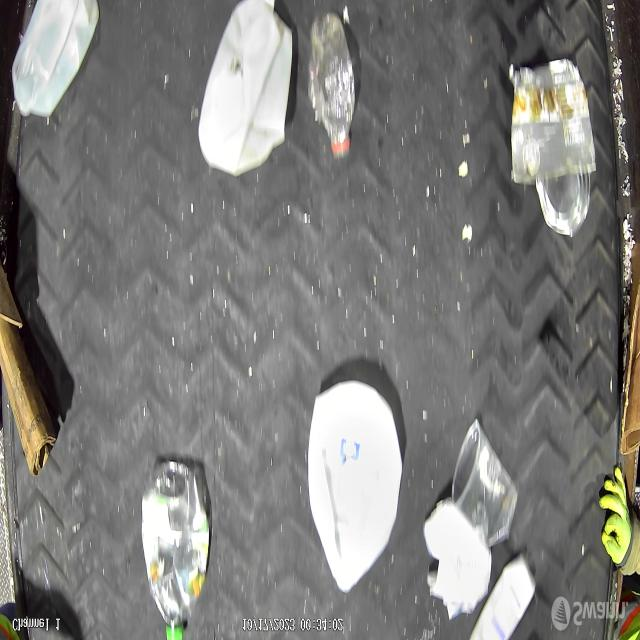can: (536, 173, 592, 236)
milk_jug: (307, 378, 403, 594), (198, 2, 294, 180), (10, 0, 100, 120)
plastic_bottle: (142, 463, 210, 640), (306, 12, 356, 156)
